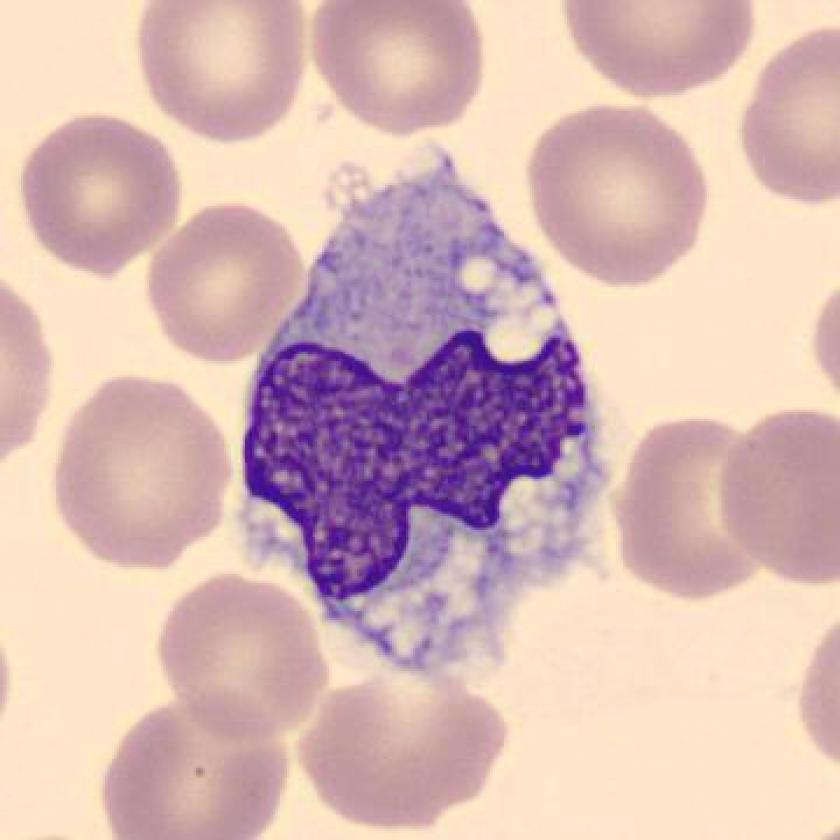monocyte: (211, 121, 636, 707)
